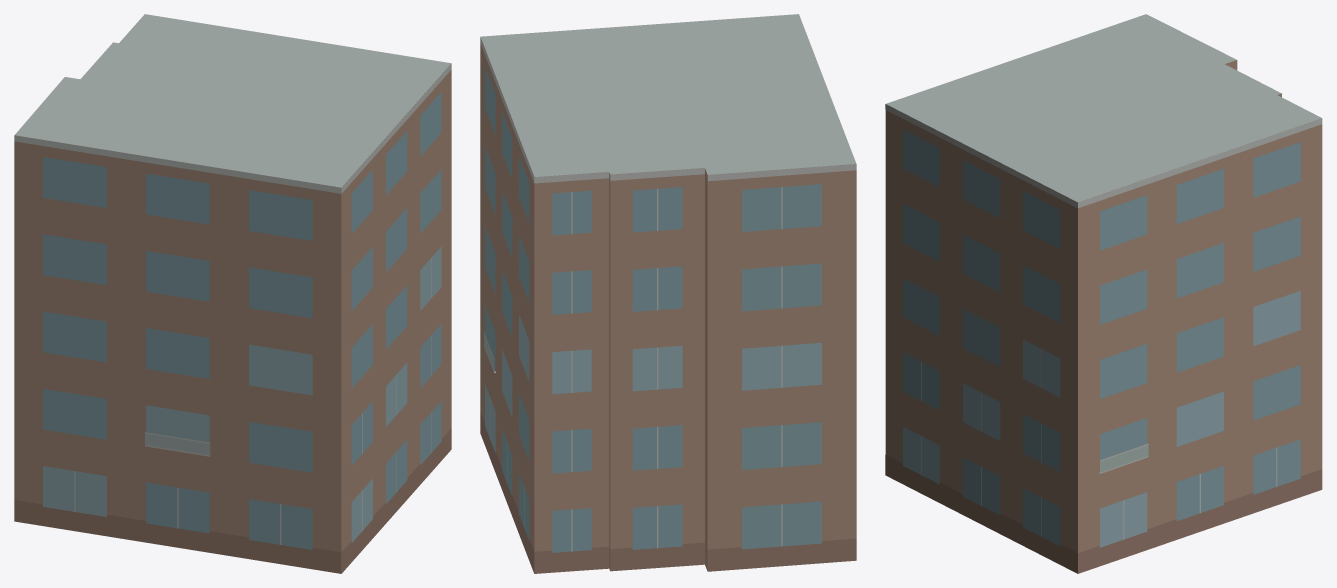
The model's file is survey-upis-32949022.glb.
The picture shows the model from 3 angles, left to right: view 1: azimuth 30°, elevation 25°; view 2: azimuth 150°, elevation 25°; view 3: azimuth 270°, elevation 25°; orthographic projection. The views are drawn at different scales.
Parts seen in each view (by area): view 1: survey-upis-32949022.tmp; view 2: survey-upis-32949022.tmp; view 3: survey-upis-32949022.tmp.
Part boxes in pixels (bbox=[...]): survey-upis-32949022.tmp: bbox=[14, 14, 451, 573]; survey-upis-32949022.tmp: bbox=[480, 14, 856, 573]; survey-upis-32949022.tmp: bbox=[885, 14, 1322, 573].
Bounding box in the file's own units: 16.6 × 15.25 × 16.26.
